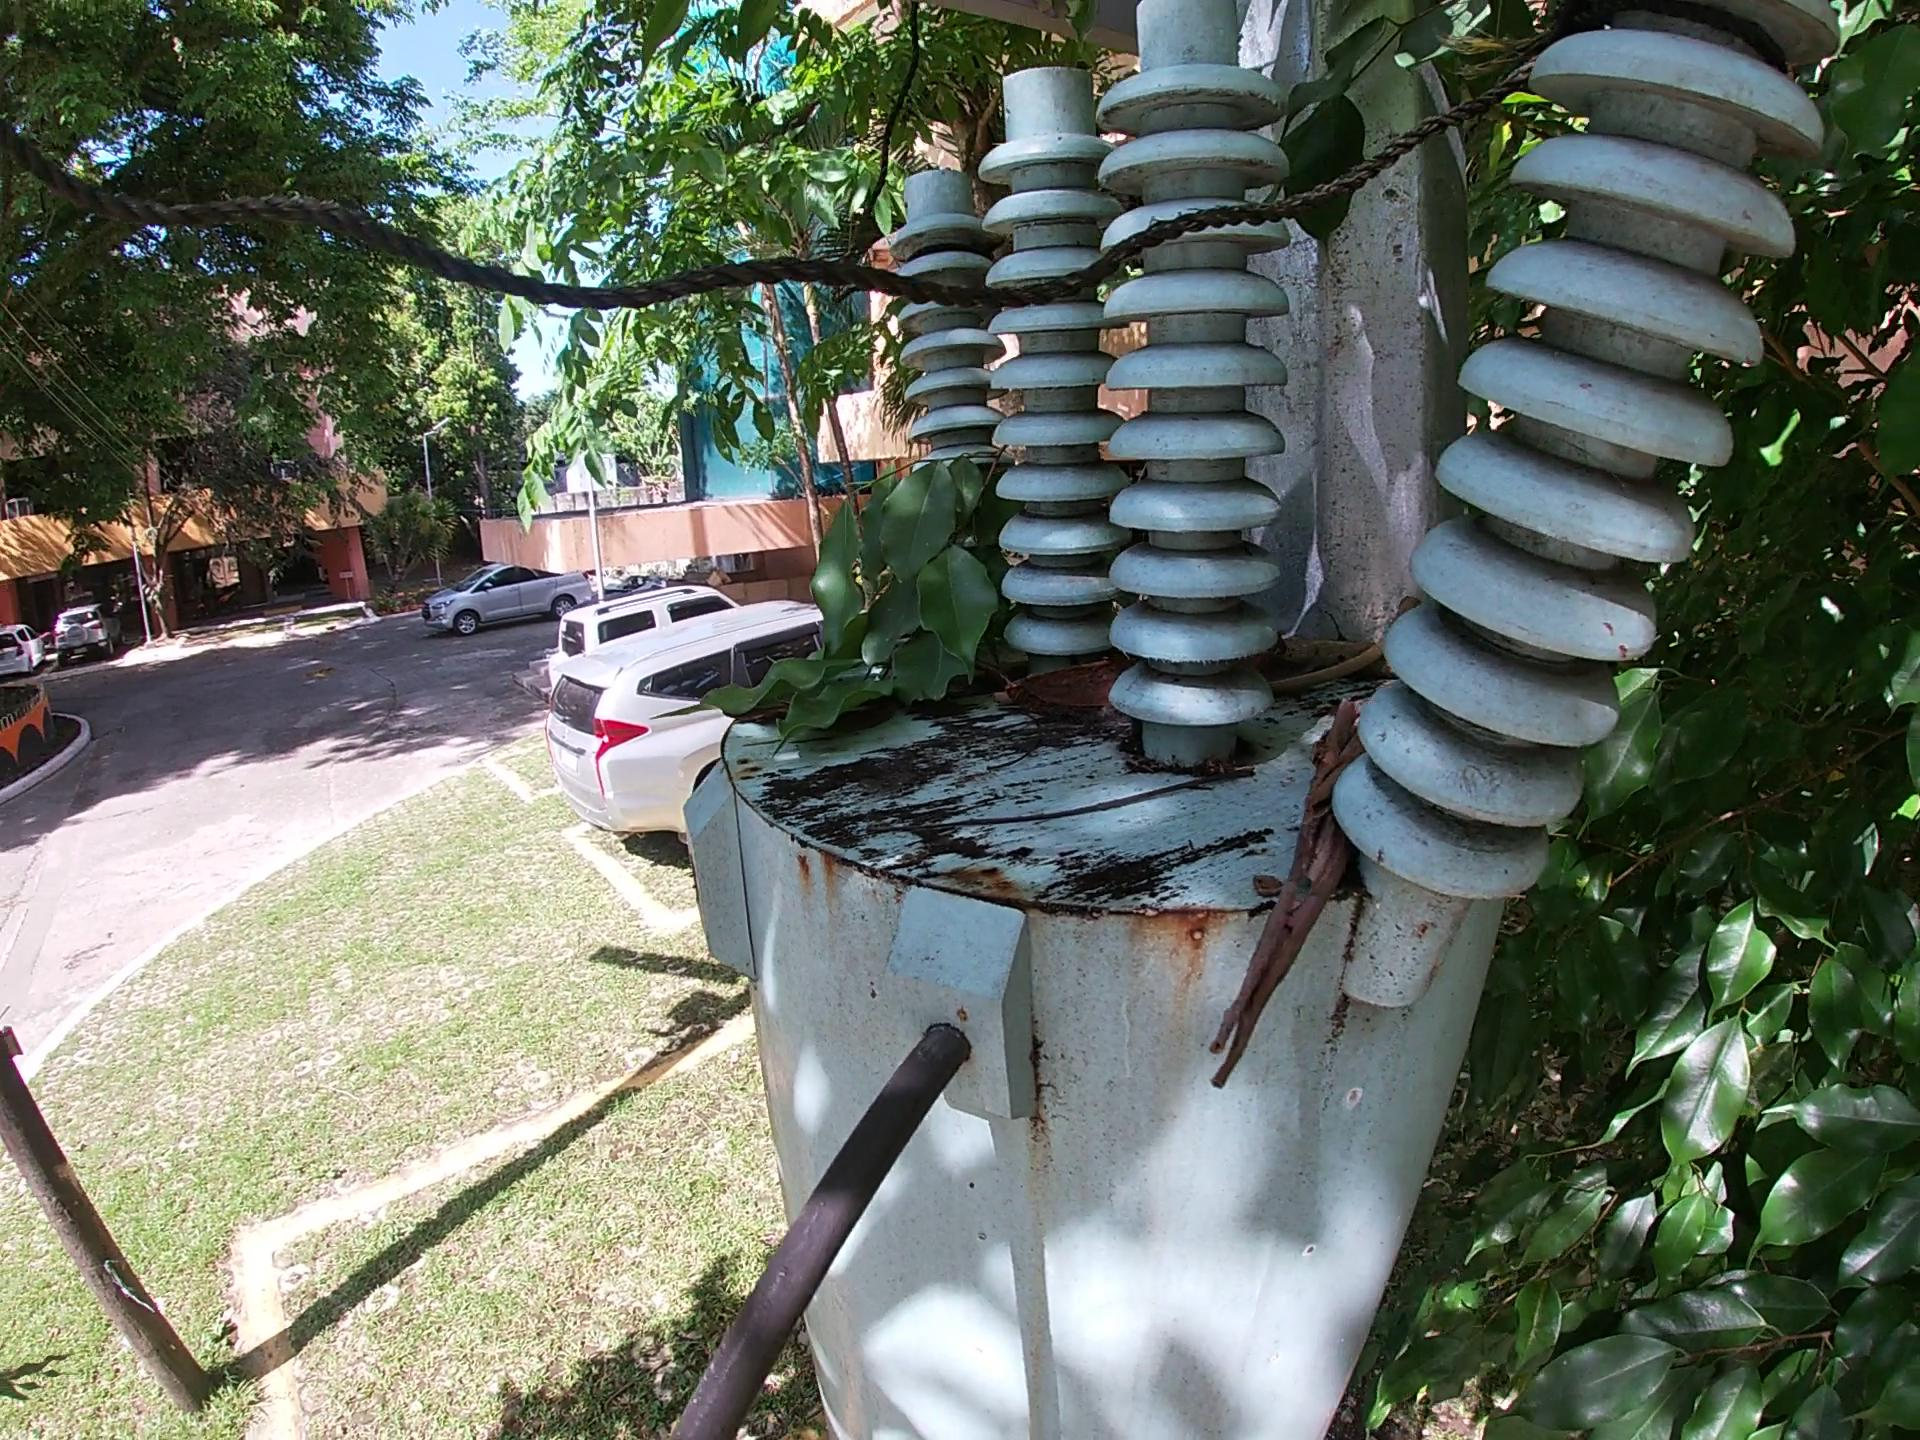branch with leaves: (717, 390, 1014, 743)
mahogany fruit: (1002, 653, 1138, 708), (748, 708, 791, 728)
tree branch: (1200, 696, 1379, 1095), (874, 767, 1255, 856), (1256, 596, 1457, 703), (930, 715, 1043, 800), (1265, 625, 1406, 666), (984, 684, 1013, 712)
